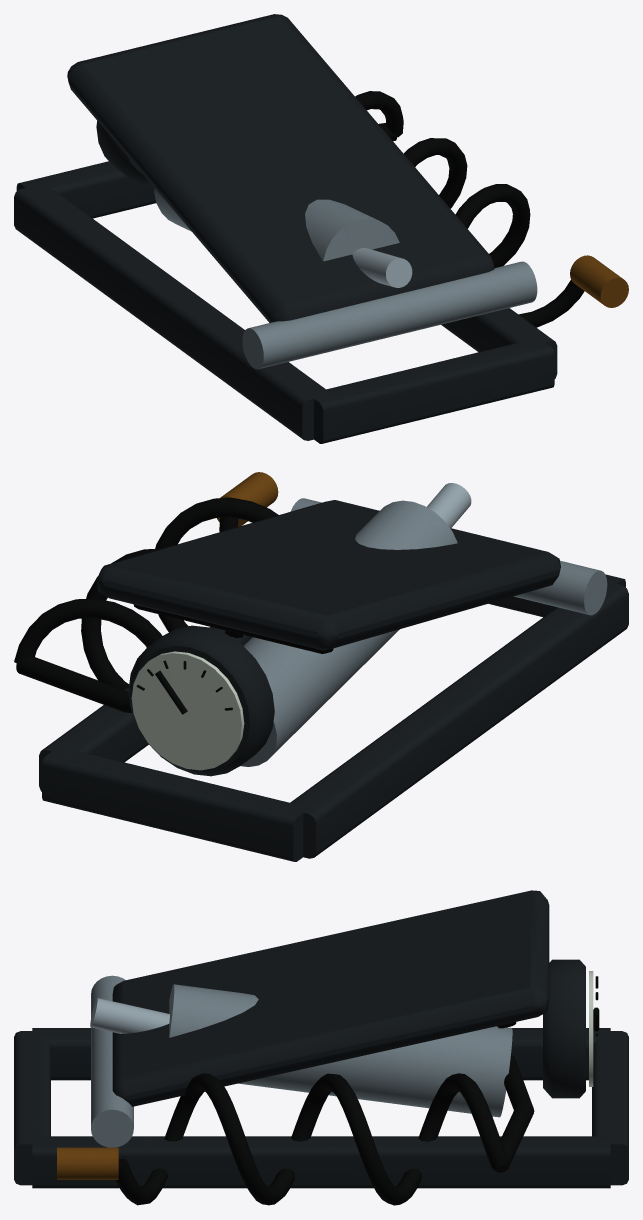
File: FootPump.gltf
3 renders of one model, top to bottom at view 1: azimuth 30°, elevation 25°; view 2: azimuth 150°, elevation 25°; view 3: azimuth 270°, elevation 25°, orthographic. The views are drawn at different scales.
Visible parts, largest first — view 1: FootPump__Body; view 2: FootPump__Body; view 3: FootPump__Body.
Boxes of the visible parts, bbox=[...] form: FootPump__Body: bbox=[14, 14, 628, 443]; FootPump__Body: bbox=[14, 472, 628, 861]; FootPump__Body: bbox=[14, 890, 628, 1205].
Size of the model in its own units: 0.1892 by 0.0981 by 0.2884.
Materials: 1 (1 with a texture image).
